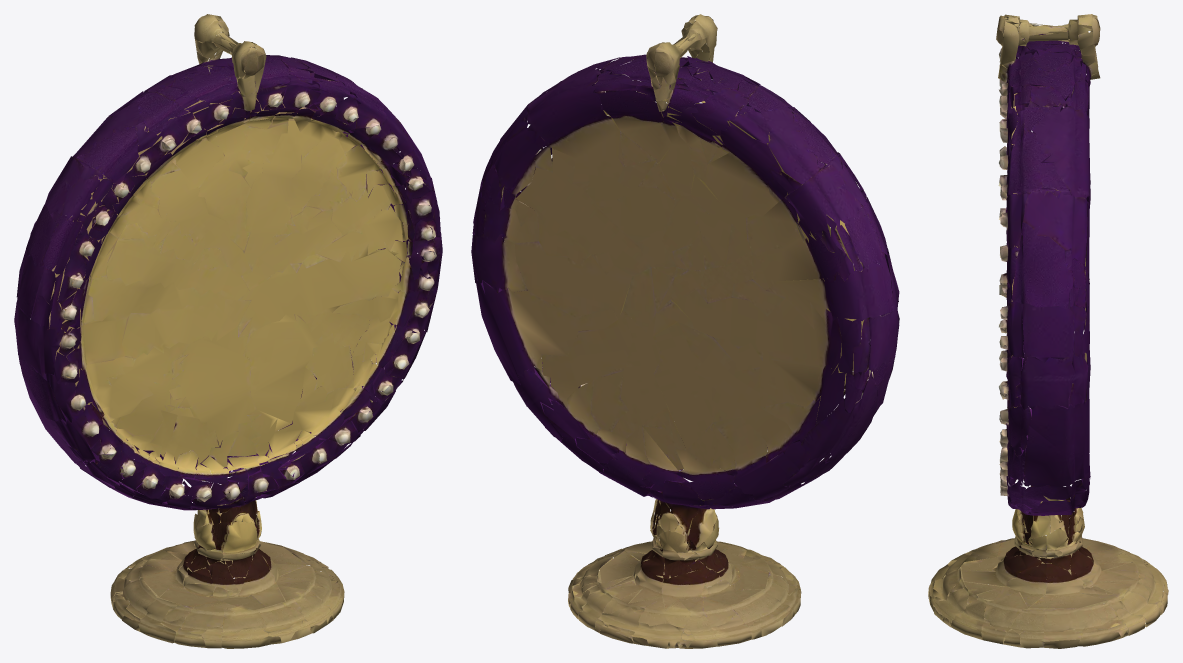
File: prizeWheel.glb
The picture shows the model from 3 angles, left to right: view 1: azimuth 30°, elevation 25°; view 2: azimuth 150°, elevation 25°; view 3: azimuth 270°, elevation 25°; orthographic projection. The views are drawn at different scales.
Visible parts, largest first — view 1: Mesh_0; view 2: Mesh_0; view 3: Mesh_0.
Part boxes in pixels (x1=…): Mesh_0: x1=14, y1=14, x2=442, y2=648; Mesh_0: x1=471, y1=14, x2=899, y2=648; Mesh_0: x1=928, y1=14, x2=1168, y2=648.
Bounding box in the file's own units: 2.69 × 3.6 × 1.34.
1 material, 1 textured.
